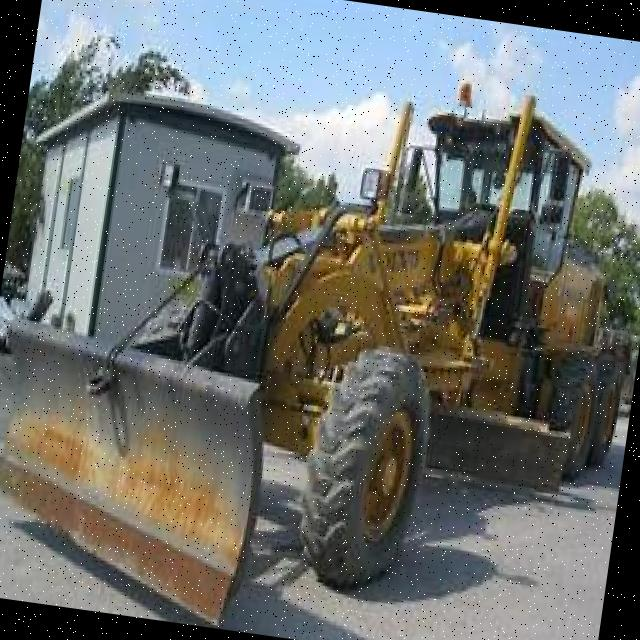Grader: (105, 43, 640, 625)
